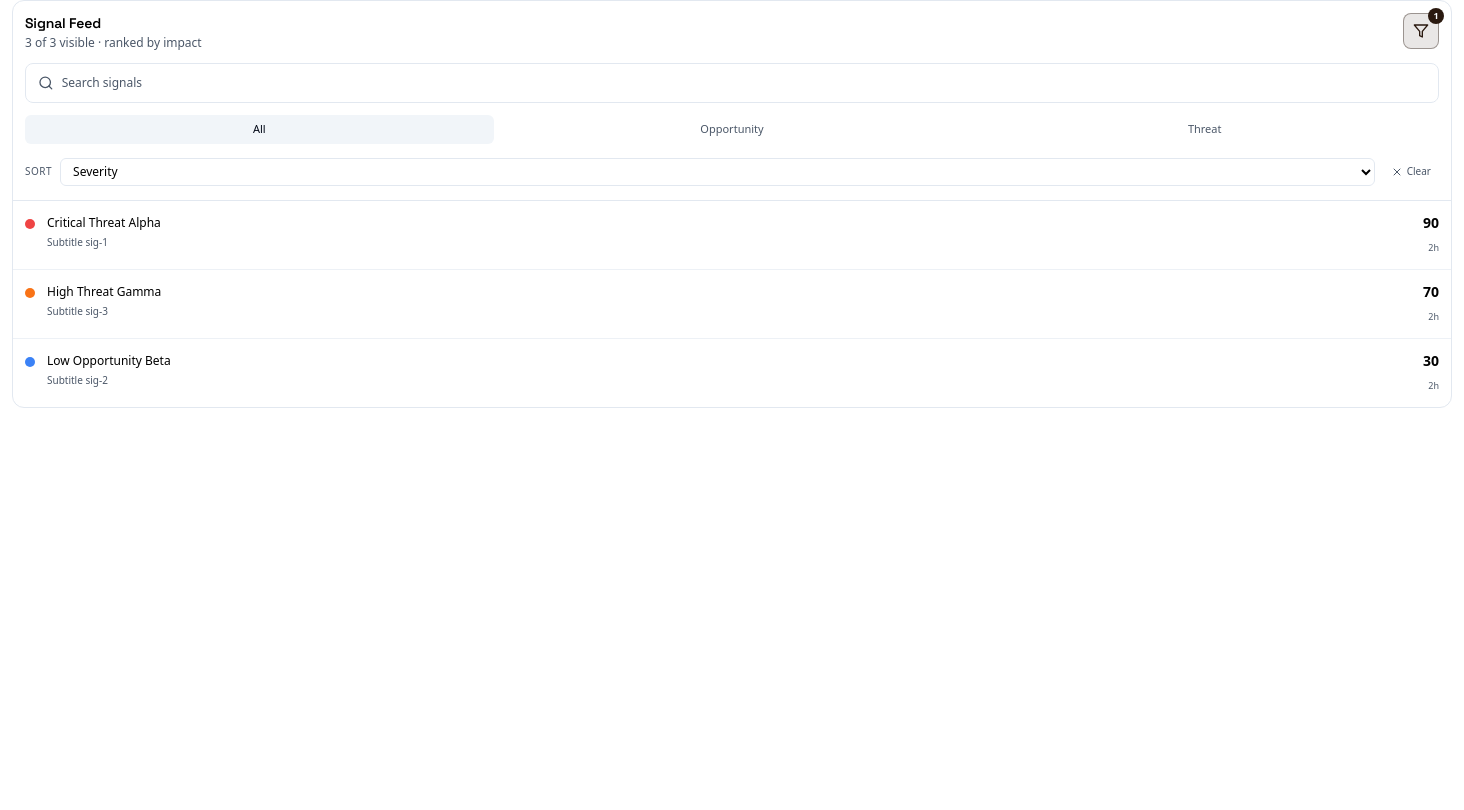
SignalFeedPanel › filter controls (Req 4.9) › expanded filter panel shows severity and confidence controls
# Click the filter toggle button to expand filter panel
Click the button named "Toggle filters" at [1421, 31], box [1403,13,1439,49]
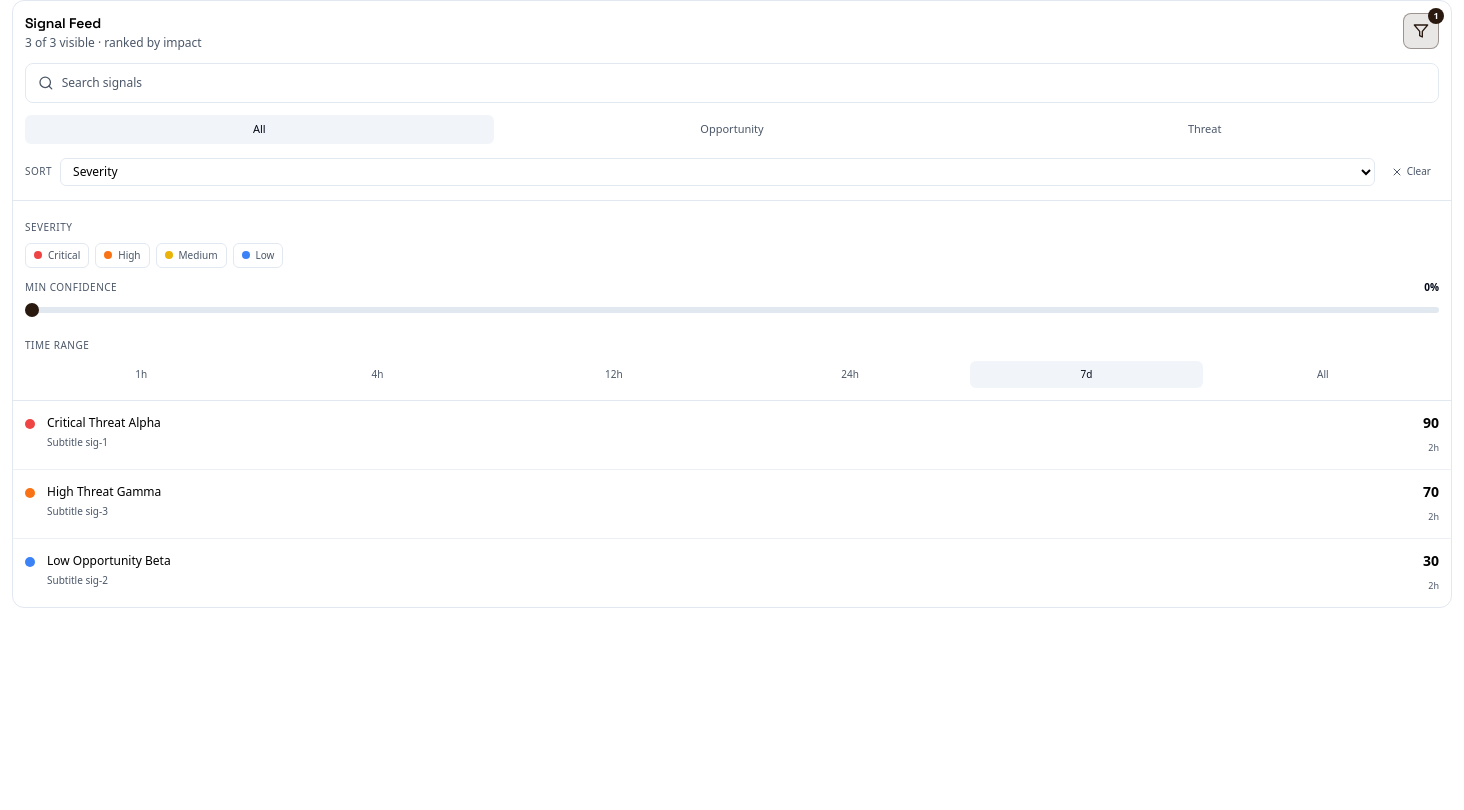
Expected: the button "Critical" is shown, [25,242,89,268]
Expected: the button "High" is shown, [95,242,150,268]
Expected: the button "Medium" is shown, [156,242,226,268]
